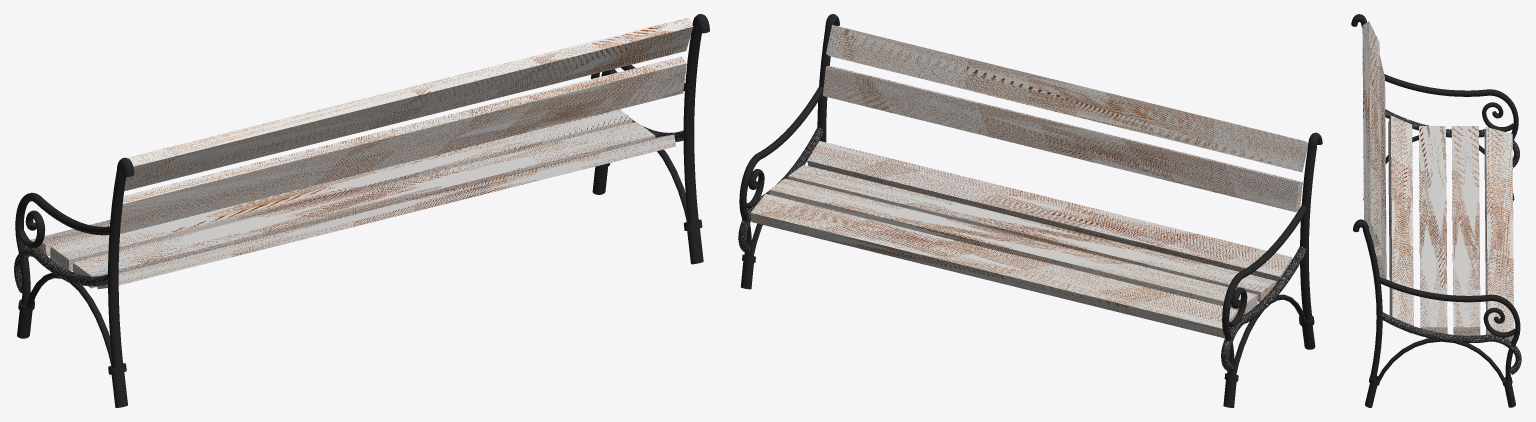
3 renders of one model, left to right at view 1: azimuth 30°, elevation 25°; view 2: azimuth 150°, elevation 25°; view 3: azimuth 270°, elevation 25°, orthographic. The views are drawn at different scales.
Parts seen in each view (by area): view 1: mesh17_mesh17-geometry, mesh16_mesh16-geometry, mesh14_mesh14-geometry, mesh13_mesh13-geometry, mesh18_mesh18-geometry, mesh1_mesh1-geometry, mesh5_mesh5-geometry, mesh2_mesh2-geometry, mesh3_mesh3-geometry, mesh7_mesh7-geometry, mesh15_mesh15-geometry, mesh4_mesh4-geometry; view 2: mesh17_mesh17-geometry, mesh16_mesh16-geometry, mesh15_mesh15-geometry, mesh18_mesh18-geometry, mesh13_mesh13-geometry, mesh14_mesh14-geometry, mesh1_mesh1-geometry, mesh5_mesh5-geometry, mesh4_mesh4-geometry, mesh2_mesh2-geometry, mesh7_mesh7-geometry; view 3: mesh13_mesh13-geometry, mesh14_mesh14-geometry, mesh15_mesh15-geometry, mesh18_mesh18-geometry, mesh1_mesh1-geometry, mesh16_mesh16-geometry, mesh5_mesh5-geometry, mesh17_mesh17-geometry, mesh2_mesh2-geometry, mesh4_mesh4-geometry, mesh3_mesh3-geometry, mesh7_mesh7-geometry.
Boxes of the visible parts, box(x1,y1,x2,y2) form: mesh17_mesh17-geometry: box(120, 56, 686, 233); mesh16_mesh16-geometry: box(124, 17, 693, 191); mesh14_mesh14-geometry: box(73, 122, 655, 288); mesh13_mesh13-geometry: box(50, 109, 632, 271); mesh18_mesh18-geometry: box(97, 134, 675, 289); mesh1_mesh1-geometry: box(15, 14, 709, 366); mesh5_mesh5-geometry: box(14, 109, 683, 292); mesh2_mesh2-geometry: box(26, 149, 687, 366); mesh3_mesh3-geometry: box(108, 219, 703, 407); mesh7_mesh7-geometry: box(17, 163, 610, 338); mesh15_mesh15-geometry: box(30, 220, 110, 255); mesh4_mesh4-geometry: box(17, 69, 616, 248); mesh17_mesh17-geometry: box(823, 66, 1302, 212); mesh16_mesh16-geometry: box(826, 25, 1308, 172); mesh15_mesh15-geometry: box(750, 194, 1238, 337); mesh18_mesh18-geometry: box(807, 141, 1292, 282); mesh13_mesh13-geometry: box(769, 178, 1257, 314); mesh14_mesh14-geometry: box(788, 164, 1276, 302); mesh1_mesh1-geometry: box(739, 14, 1322, 375); mesh5_mesh5-geometry: box(738, 127, 1306, 371); mesh4_mesh4-geometry: box(746, 169, 1247, 326); mesh2_mesh2-geometry: box(751, 223, 1306, 375); mesh7_mesh7-geometry: box(741, 254, 1238, 407); mesh13_mesh13-geometry: box(1451, 126, 1480, 335); mesh14_mesh14-geometry: box(1419, 126, 1447, 336); mesh15_mesh15-geometry: box(1484, 127, 1513, 341); mesh18_mesh18-geometry: box(1388, 115, 1413, 333); mesh1_mesh1-geometry: box(1351, 14, 1520, 381); mesh16_mesh16-geometry: box(1362, 21, 1381, 247); mesh5_mesh5-geometry: box(1380, 109, 1521, 374); mesh17_mesh17-geometry: box(1374, 55, 1386, 278); mesh2_mesh2-geometry: box(1376, 135, 1505, 381); mesh4_mesh4-geometry: box(1482, 102, 1515, 337); mesh3_mesh3-geometry: box(1363, 198, 1379, 407); mesh7_mesh7-geometry: box(1502, 193, 1515, 407).
Size of the model in its own units: 0.8824 by 0.3637 by 0.2985.
